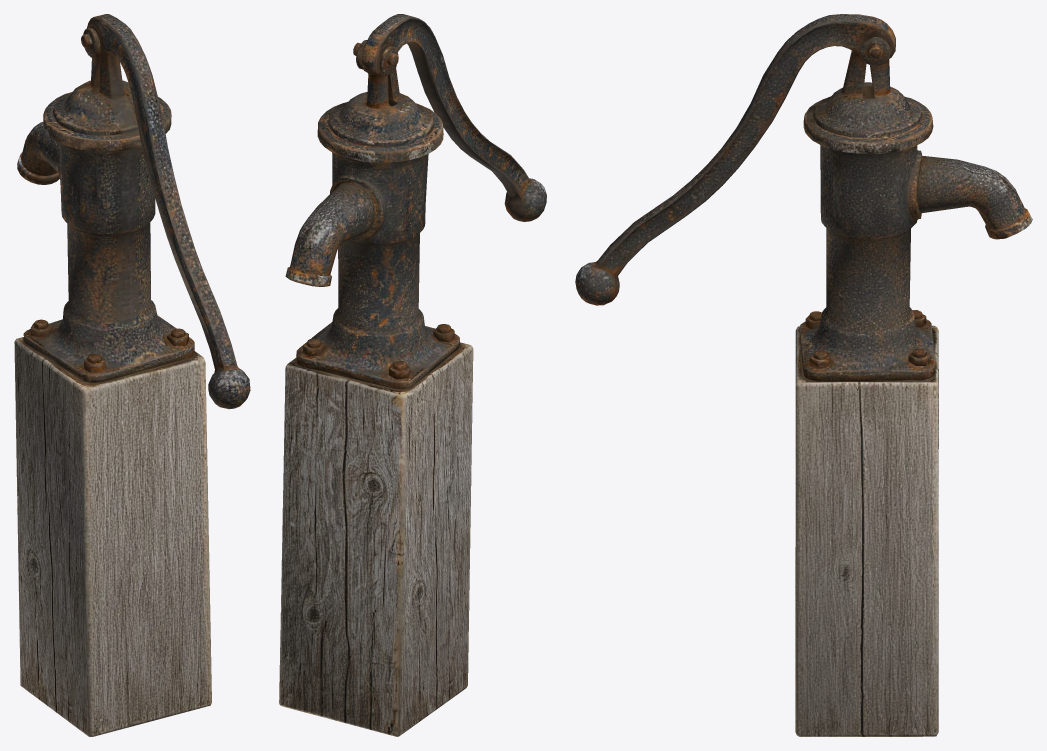
File: pump.glb
3 views of the same model, side by side, from view 1: azimuth 30°, elevation 25°; view 2: azimuth 150°, elevation 25°; view 3: azimuth 270°, elevation 25° (orthographic). The views are drawn at different scales.
Visible parts, largest first — view 1: pump; view 2: pump; view 3: pump.
Boxes of the visible parts, left/top/right/bottom form: pump: left=14, top=14, right=250, bottom=736; pump: left=279, top=14, right=546, bottom=736; pump: left=575, top=14, right=1032, bottom=736.
Size of the model in its own units: 0.2582 by 1.3 by 0.7843.
1 material, 1 textured.
